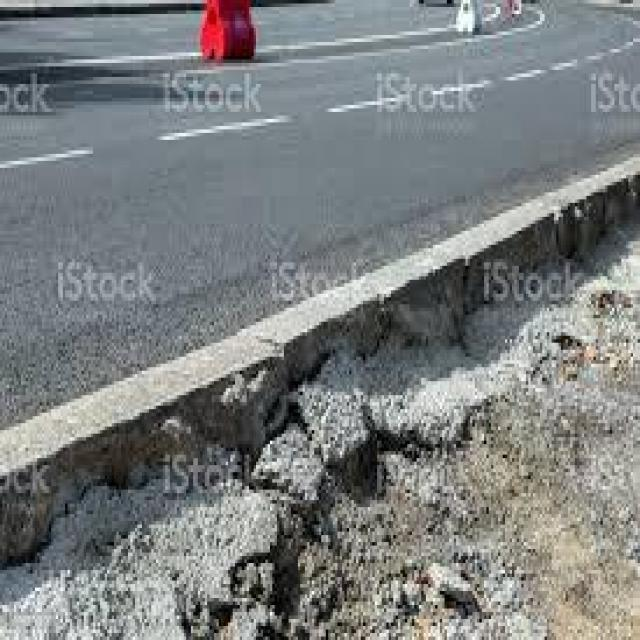bump: (23, 289, 346, 525), (262, 204, 522, 395)
